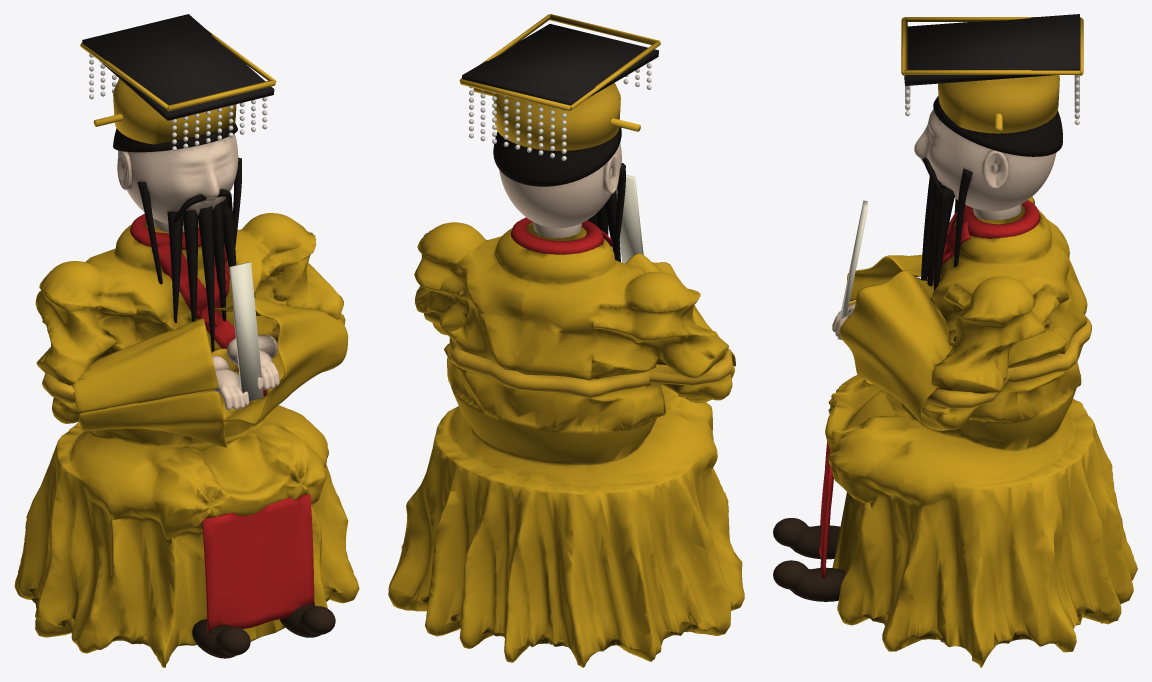
File: yuhuang.glb
The picture shows the model from 3 angles, left to right: view 1: azimuth 30°, elevation 25°; view 2: azimuth 150°, elevation 25°; view 3: azimuth 270°, elevation 25°; orthographic projection. The views are drawn at different scales.
Parts seen in each view (by area): view 1: YH_Robe, YH_SleeveL, YH_Apron, YH_Board, YH_Beard, YH_HeadMesh, YH_SleeveR, YH_Crown, YH_Hu, YH_Boots, YH_Lapel, YH_BoardTrim (+7 smaller); view 2: YH_Robe, YH_Board, YH_Crown, YH_Belt, YH_HeadMesh, YH_HairCap, YH_BoardTrim, YH_Beads, YH_Collar, YH_Hu, YH_Beard, YH_SleeveL; view 3: YH_Robe, YH_SleeveR, YH_Board, YH_HeadMesh, YH_Crown, YH_Boots, YH_Beard, YH_HairCap, YH_Belt, YH_BoardTrim, YH_SleeveL, YH_Collar (+4 smaller).
Part boxes in pixels (left/top/right/bottom): YH_Robe: left=14, top=213, right=359, bottom=667; YH_SleeveL: left=71, top=318, right=226, bottom=447; YH_Apron: left=202, top=494, right=314, bottom=631; YH_Board: left=82, top=14, right=274, bottom=120; YH_Beard: left=137, top=157, right=241, bottom=351; YH_HeadMesh: left=118, top=133, right=238, bottom=225; YH_SleeveR: left=214, top=298, right=347, bottom=424; YH_Crown: left=93, top=78, right=236, bottom=144; YH_Hu: left=229, top=262, right=263, bottom=401; YH_Boots: left=192, top=604, right=335, bottom=658; YH_Lapel: left=151, top=243, right=267, bottom=398; YH_BoardTrim: left=80, top=29, right=276, bottom=111; YH_Robe: left=388, top=222, right=744, bottom=667; YH_Board: left=461, top=24, right=658, bottom=105; YH_Crown: left=473, top=82, right=640, bottom=150; YH_Belt: left=423, top=312, right=733, bottom=398; YH_HeadMesh: left=499, top=143, right=621, bottom=228; YH_HairCap: left=493, top=127, right=621, bottom=186; YH_BoardTrim: left=459, top=14, right=660, bottom=110; YH_Beads: left=469, top=63, right=651, bottom=160; YH_Collar: left=511, top=217, right=603, bottom=254; YH_Hu: left=616, top=175, right=643, bottom=263; YH_Beard: left=587, top=163, right=625, bottom=261; YH_SleeveL: left=625, top=253, right=735, bottom=403; YH_Robe: left=825, top=196, right=1137, bottom=667; YH_SleeveR: left=839, top=270, right=973, bottom=430; YH_Board: left=904, top=14, right=1080, bottom=85; YH_HeadMesh: left=914, top=109, right=1056, bottom=211; YH_Crown: left=938, top=75, right=1059, bottom=133; YH_Boots: left=773, top=518, right=846, bottom=601; YH_Beard: left=921, top=157, right=972, bottom=290; YH_HairCap: left=933, top=96, right=1062, bottom=156; YH_Belt: left=927, top=318, right=1091, bottom=408; YH_BoardTrim: left=901, top=17, right=1083, bottom=75; YH_SleeveL: left=847, top=255, right=927, bottom=385; YH_Collar: left=963, top=200, right=1040, bottom=238.
Size of the model in its own units: 1.18 by 1.95 by 1.16.
